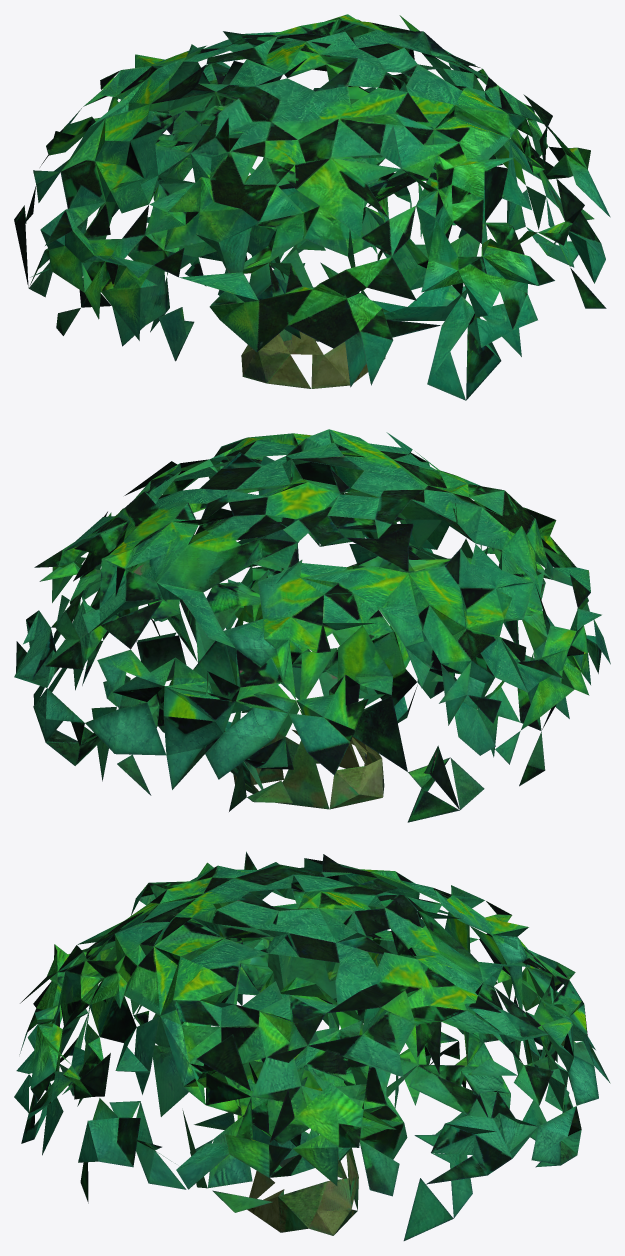
The picture shows the model from 3 angles, top to bottom: view 1: azimuth 30°, elevation 25°; view 2: azimuth 150°, elevation 25°; view 3: azimuth 270°, elevation 25°; orthographic projection.
Bounding box in the file's own units: 1.71 × 1.02 × 1.73.
Materials: 1 (1 with a texture image).
